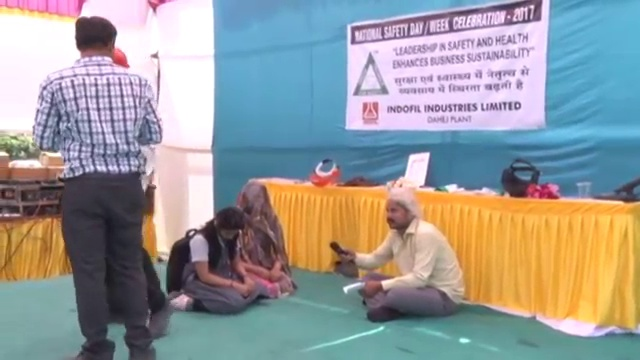helmet_off: (63, 17, 124, 66), (378, 189, 423, 236), (241, 187, 277, 233), (209, 207, 244, 250)
person: (35, 6, 163, 352), (338, 185, 465, 324), (160, 208, 270, 313), (228, 184, 294, 297)
